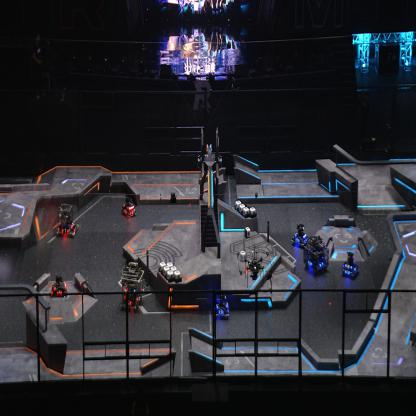car: (118, 263, 145, 311), (303, 233, 329, 275), (55, 202, 79, 237), (341, 249, 359, 279), (50, 273, 68, 298), (120, 194, 137, 218), (292, 222, 308, 246), (214, 293, 229, 318)
